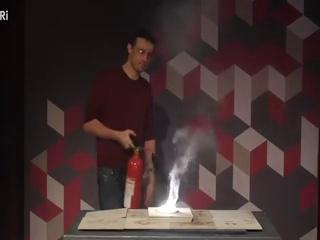Fire: (156, 161, 183, 213)
